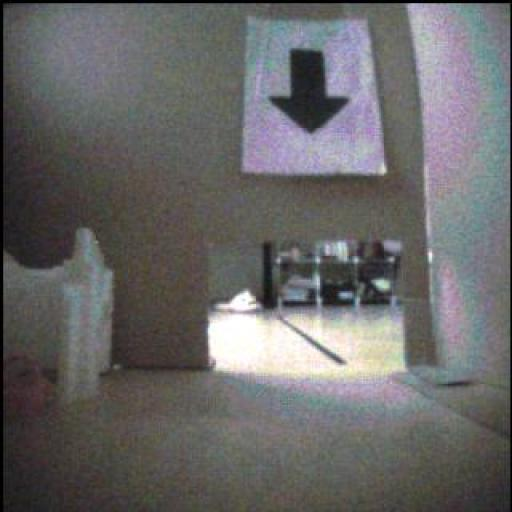arrow: (271, 51, 350, 134)
